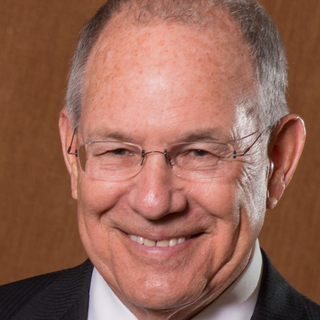eye: (177, 142, 227, 166), (92, 142, 142, 165)
